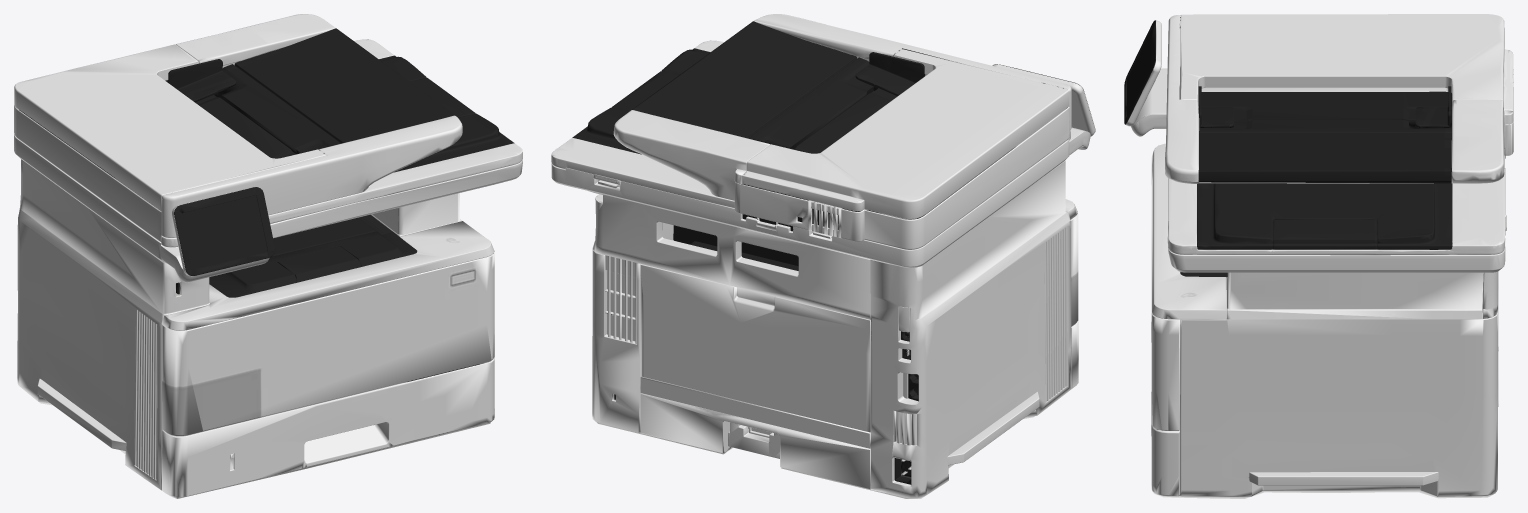
File: dev-printer-laser_lod1.glb
3 renders of one model, left to right at view 1: azimuth 30°, elevation 25°; view 2: azimuth 150°, elevation 25°; view 3: azimuth 270°, elevation 25°, orthographic. The views are drawn at different scales.
Visible parts, largest first — view 1: body; view 2: body; view 3: body.
Boxes of the visible parts, x1,y1,x2,y2 form: body: (14,14,522,498); body: (551,14,1095,498); body: (1124,14,1513,498).
Bounding box in the file's own units: 0.4432 × 0.3386 × 0.3781.
Materials: 1 (1 with a texture image).
